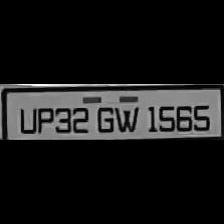1: (142, 102, 158, 132)
2: (70, 104, 90, 134)
3: (52, 104, 72, 134)
5: (153, 101, 175, 133), (190, 101, 212, 131)
6: (174, 102, 192, 132)
G: (94, 104, 116, 134)
P: (32, 104, 52, 134)
U: (15, 106, 36, 134)
W: (114, 104, 140, 134)
